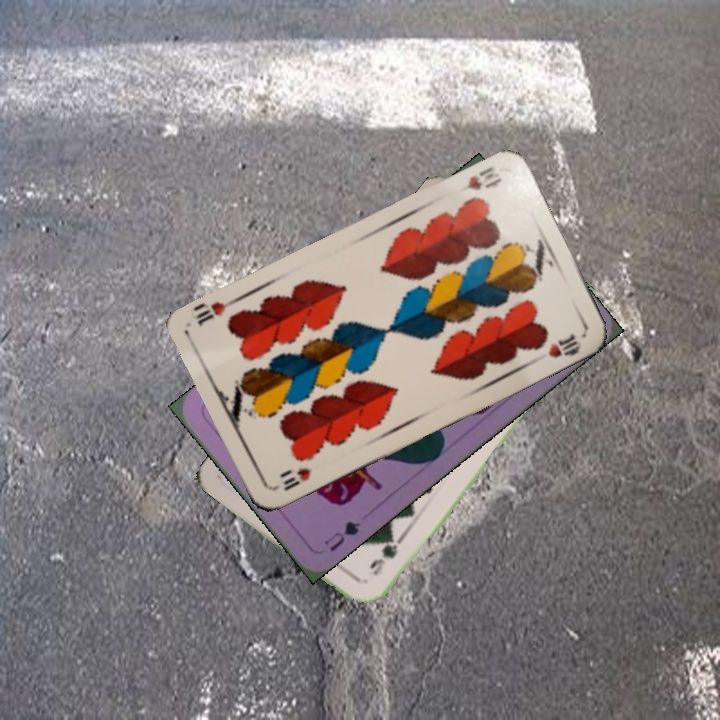G9: (366, 535, 401, 578)
GU: (320, 516, 364, 555)
H10: (455, 162, 504, 195), (270, 463, 314, 494)
